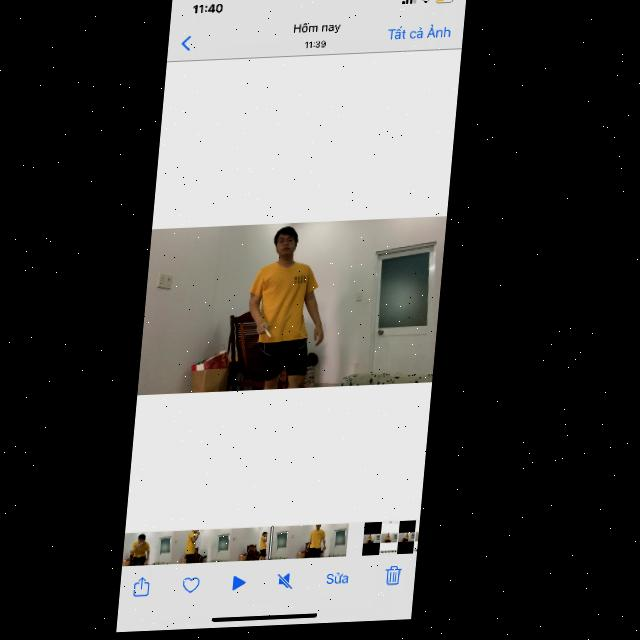cigarette: (269, 330, 278, 341)
